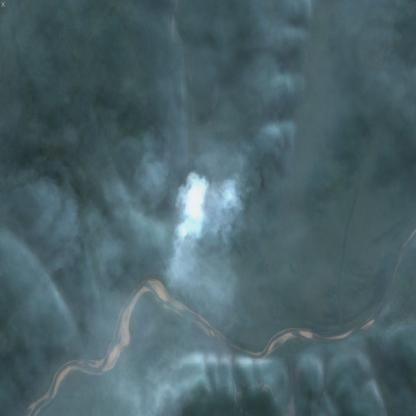fire: (179, 178, 238, 237)
